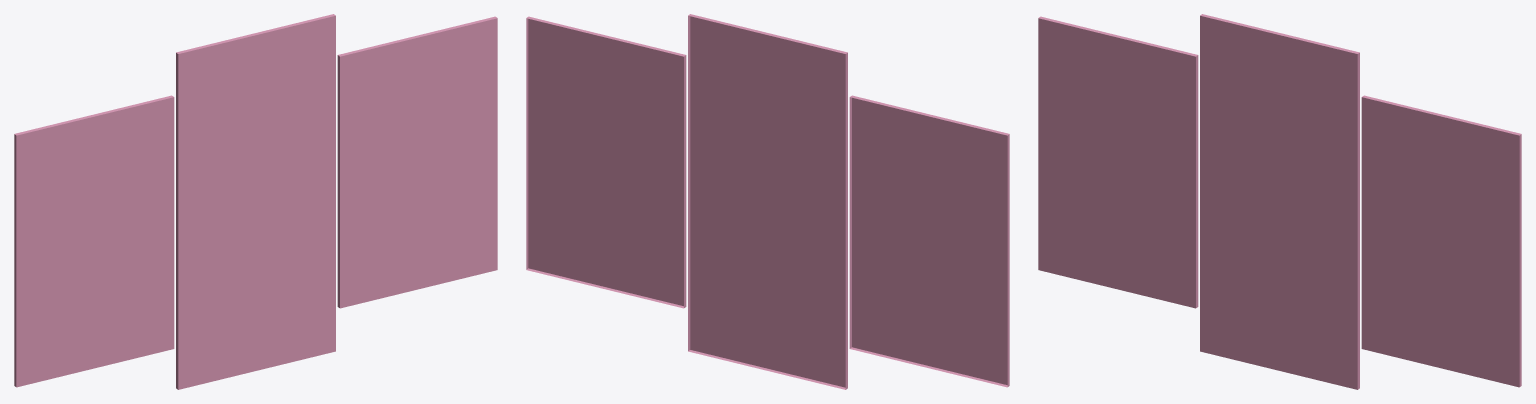
The model's file is Pigura2.fbx.
3 views of the same model, side by side, from view 1: azimuth 30°, elevation 25°; view 2: azimuth 150°, elevation 25°; view 3: azimuth 330°, elevation 25° (orthographic).
Visible parts, largest first — view 1: Cube.019; view 2: Cube.019; view 3: Cube.019.
Boxes of the visible parts, x1,y1,x2,y2 form: Cube.019: [14, 14, 497, 389]; Cube.019: [526, 14, 1009, 389]; Cube.019: [1038, 14, 1521, 389].
Size of the model in its own units: 120 by 80 by 1.
